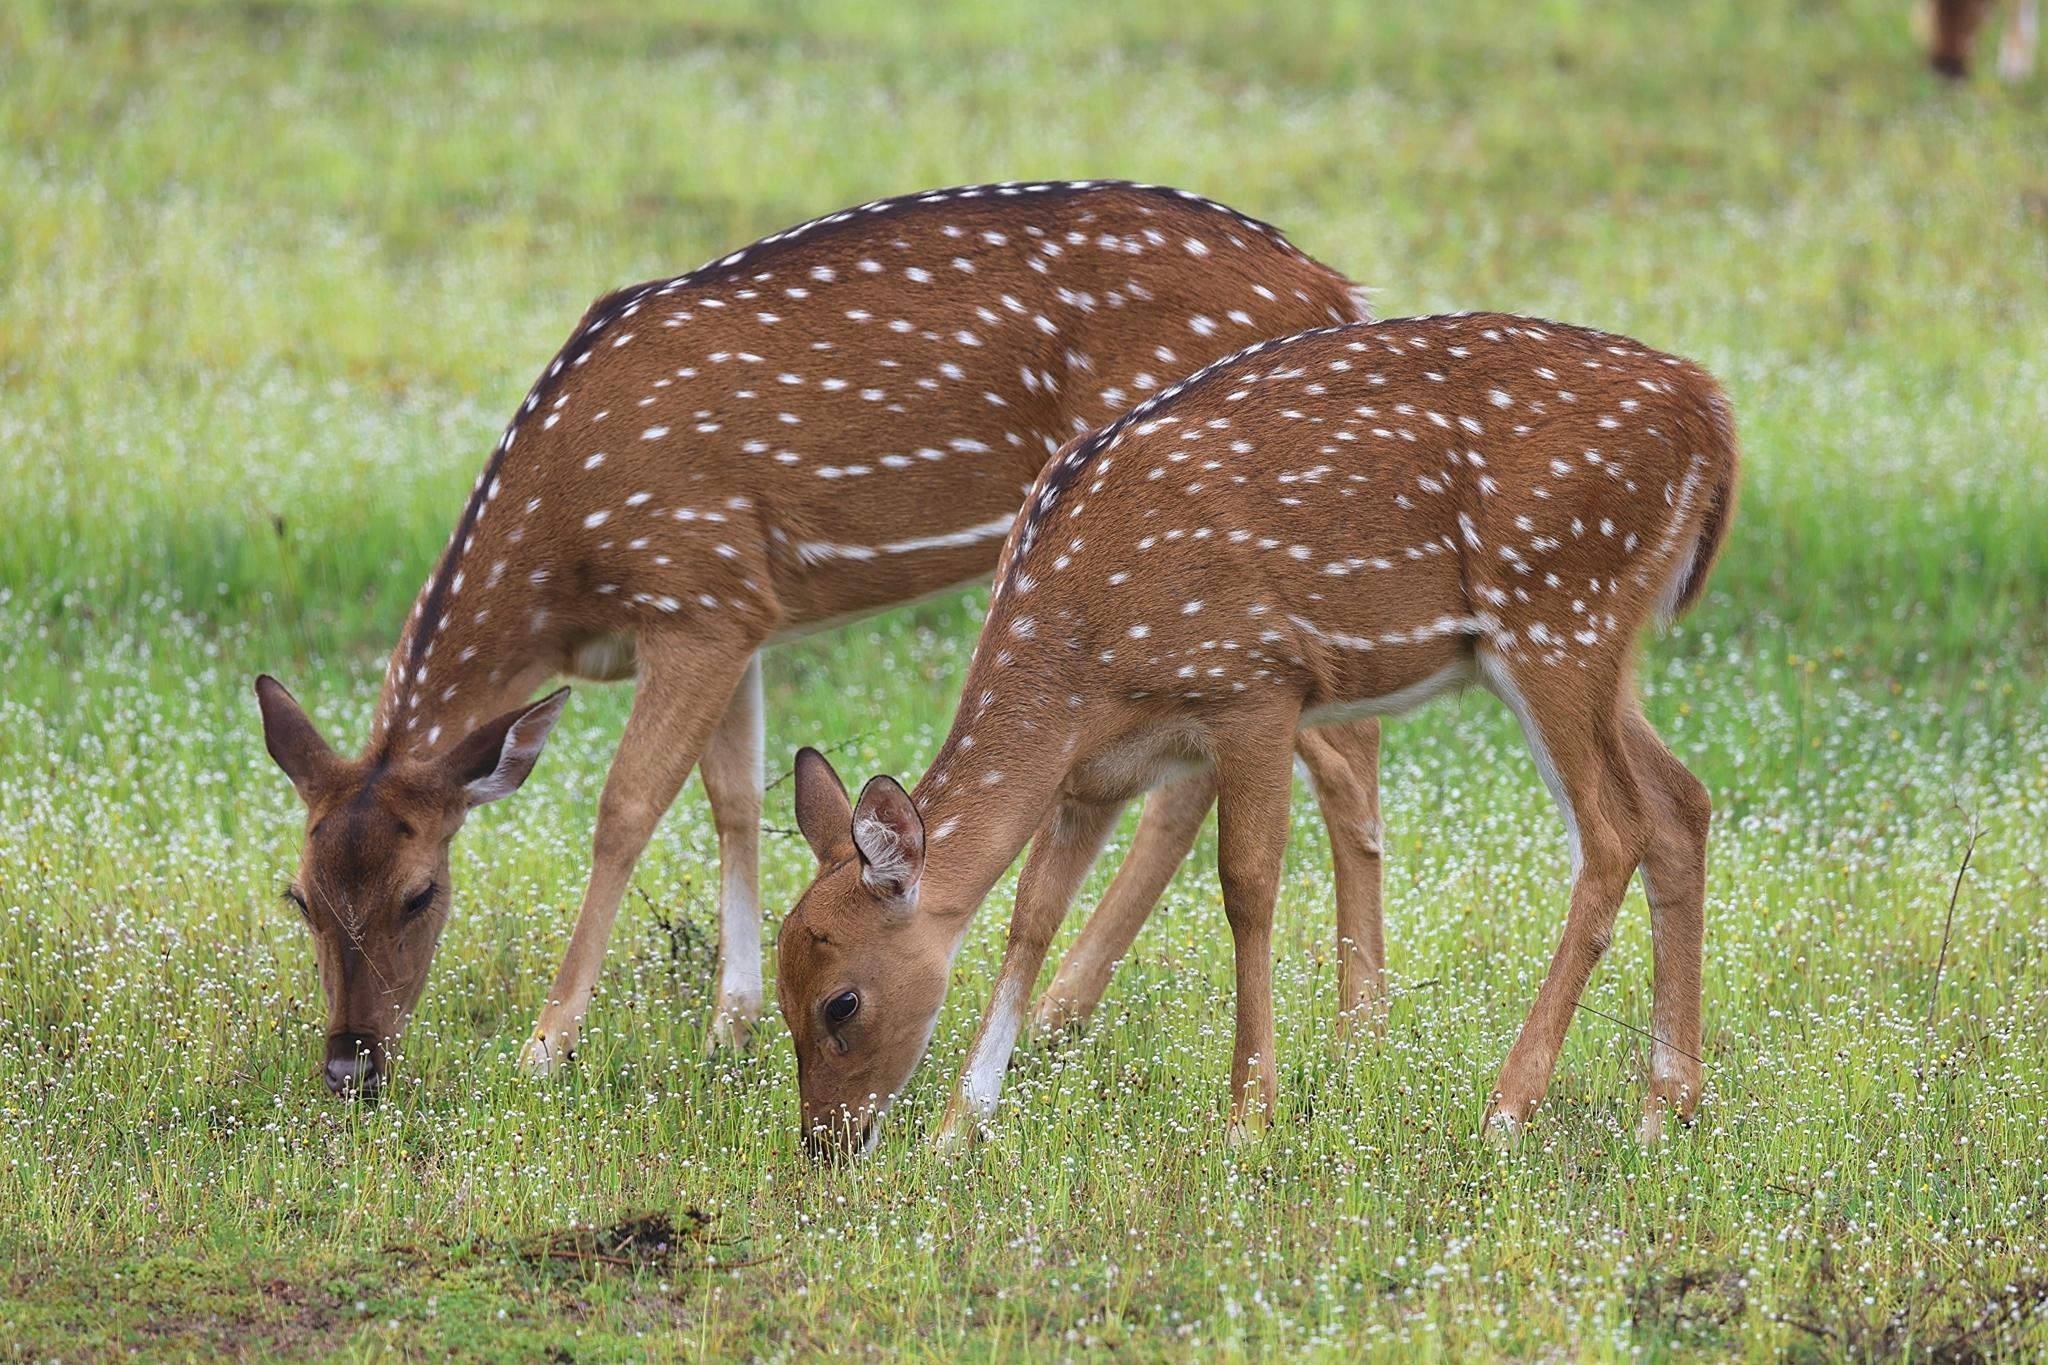Deer: (259, 181, 1370, 1088), (780, 312, 1737, 1146)
